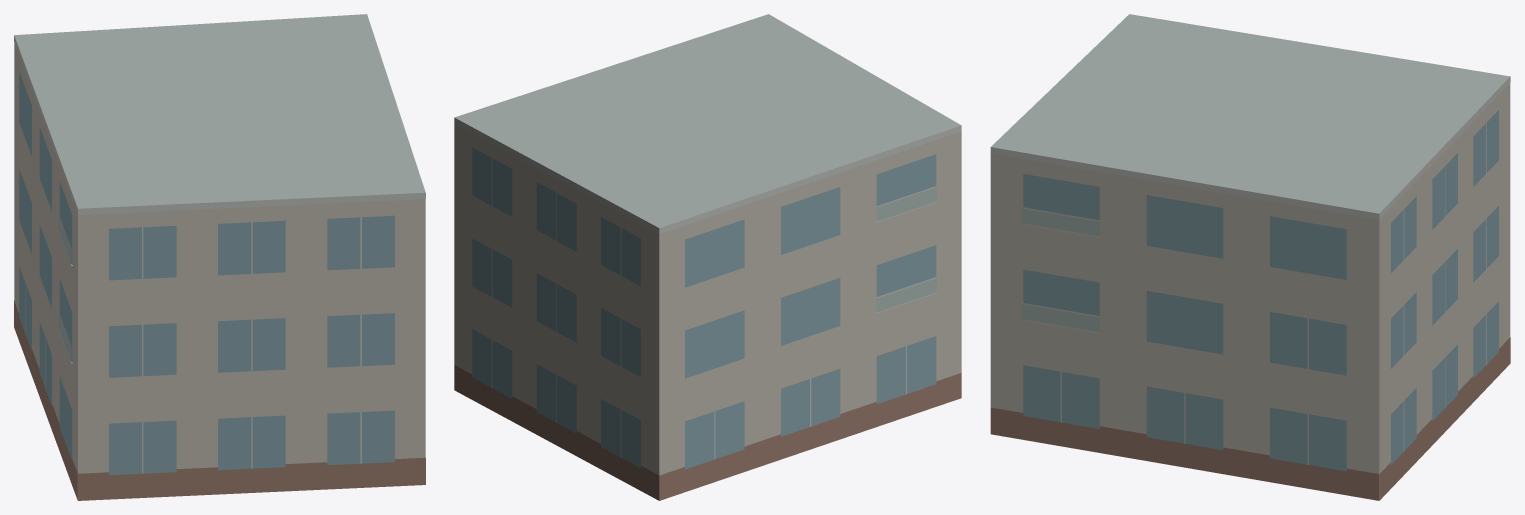
The model's file is survey-upis-32837611.glb.
The picture shows the model from 3 angles, left to right: view 1: azimuth 30°, elevation 25°; view 2: azimuth 150°, elevation 25°; view 3: azimuth 270°, elevation 25°; orthographic projection. The views are drawn at different scales.
Visible parts, largest first — view 1: survey-upis-32837611.tmp; view 2: survey-upis-32837611.tmp; view 3: survey-upis-32837611.tmp.
Part boxes in pixels (bbox=[...]): survey-upis-32837611.tmp: bbox=[14, 14, 425, 500]; survey-upis-32837611.tmp: bbox=[454, 14, 961, 500]; survey-upis-32837611.tmp: bbox=[990, 14, 1510, 500].
Bounding box in the file's own units: 16.56 × 11.1 × 18.22.
